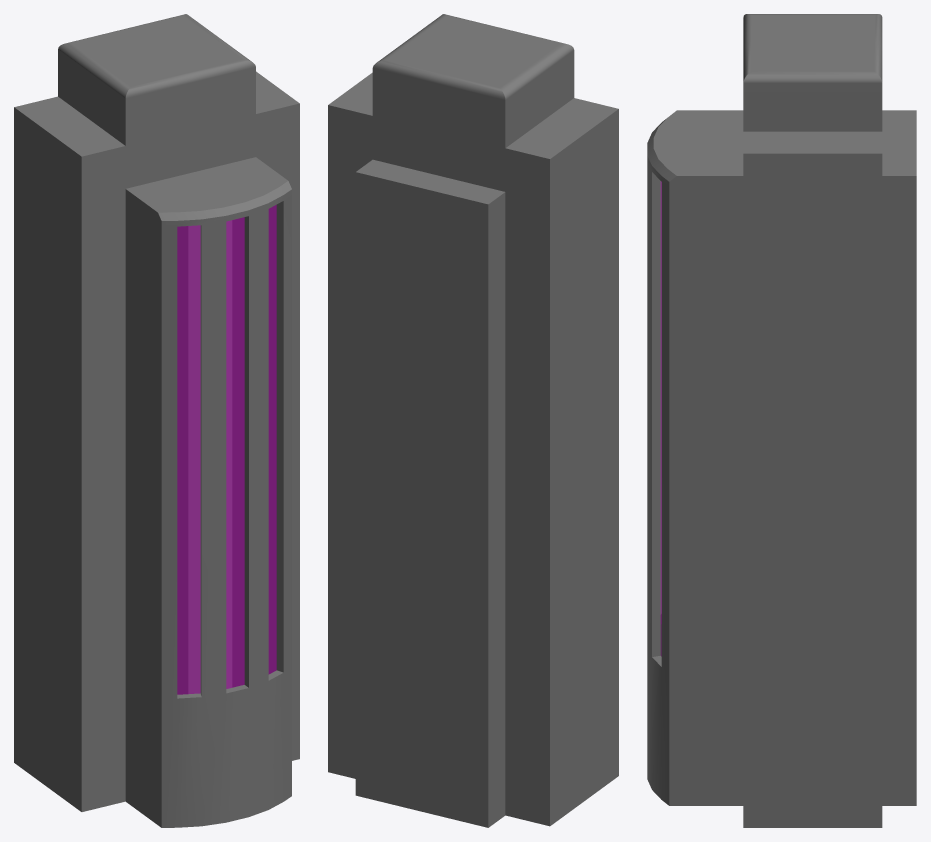
File: Grill Building.fbx
3 views of the same model, side by side, from view 1: azimuth 30°, elevation 25°; view 2: azimuth 150°, elevation 25°; view 3: azimuth 270°, elevation 25° (orthographic). The views are drawn at different scales.
Parts seen in each view (by area): view 1: Grill_Building; view 2: Grill_Building; view 3: Grill_Building.
Part boxes in pixels (<box>): Grill_Building: <box>14,14,299,827</box>; Grill_Building: <box>328,14,618,827</box>; Grill_Building: <box>647,14,916,827</box>.
Size of the model in its own units: 36.49 by 113 by 37.99.
